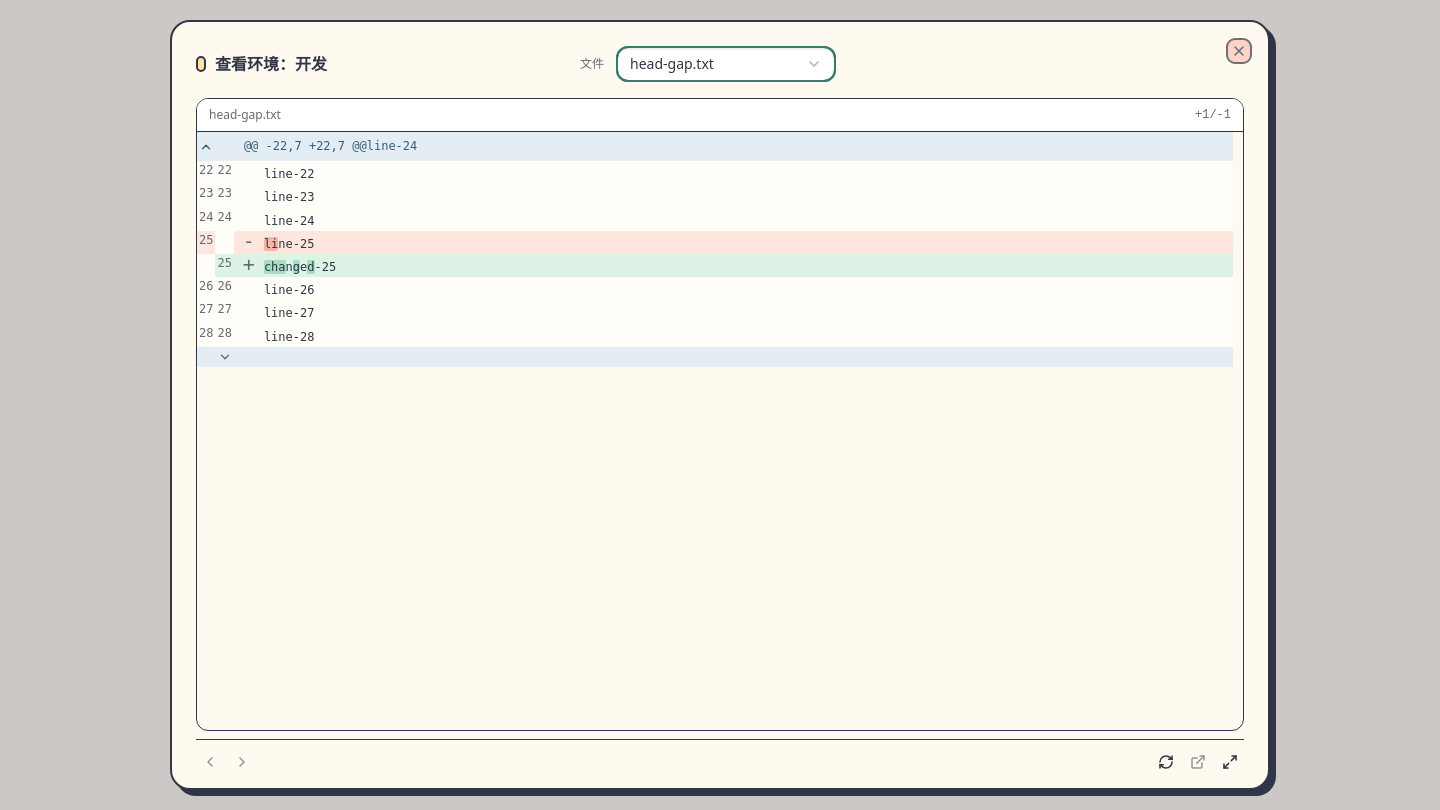
Test: EnvironmentDiffDialog › offers only upward expansion for a head gap
This screenshot has width=1440, height=810.
Expected: the row with test id "environment-diff-hunk-header" reads "@@ -22,7 +22,7 @@ line-24", x1=197 y1=132 x2=1233 y2=161
Click the button named "向上展开10行".
click(206, 147)  # box x1=197 y1=137 x2=215 y2=157
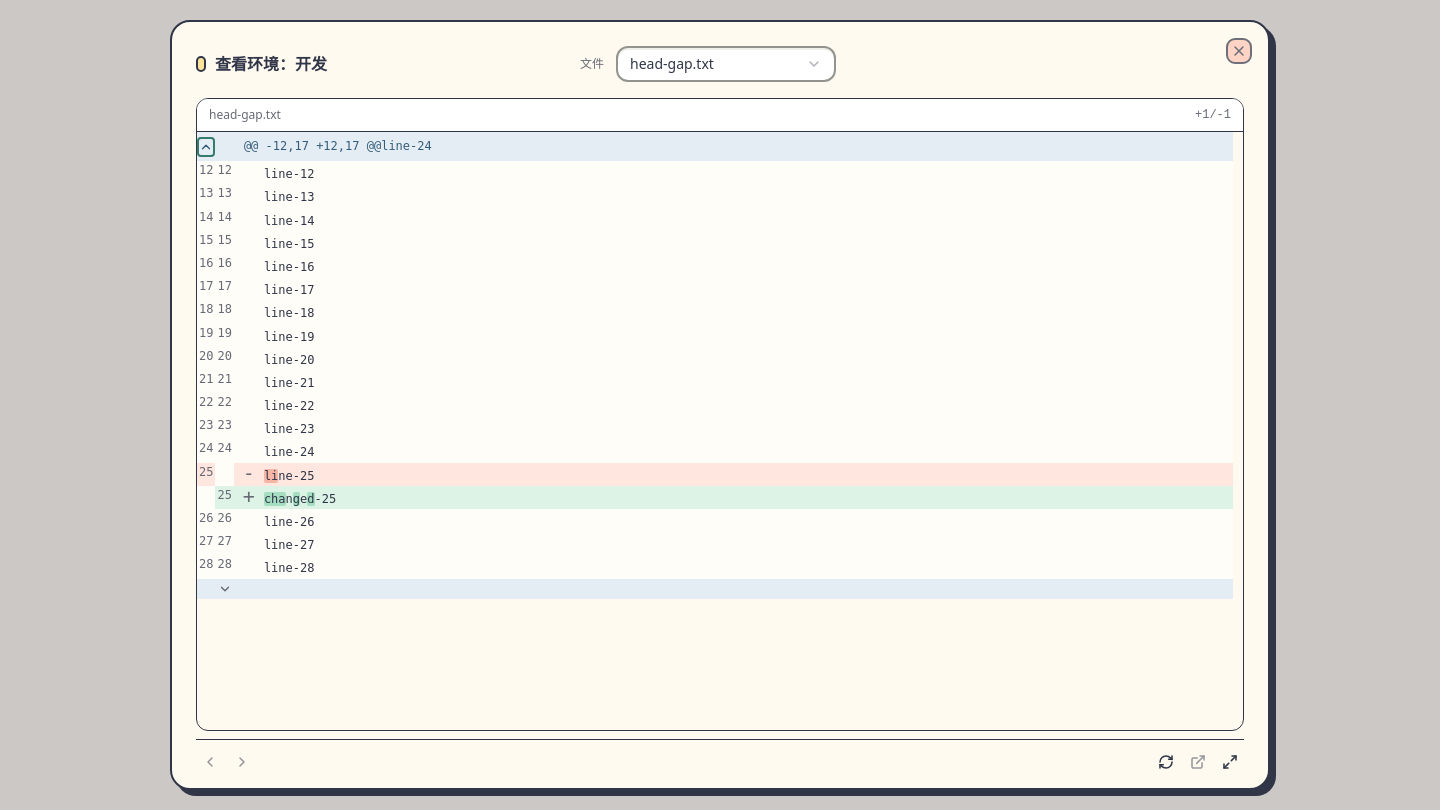
Expected: the row with test id "environment-diff-hunk-header" reads "@@ -12,17 +12,17 @@ line-24", x1=197 y1=132 x2=1233 y2=161
Click the button named "向上展开10行".
click(206, 147)  # box x1=197 y1=137 x2=215 y2=157
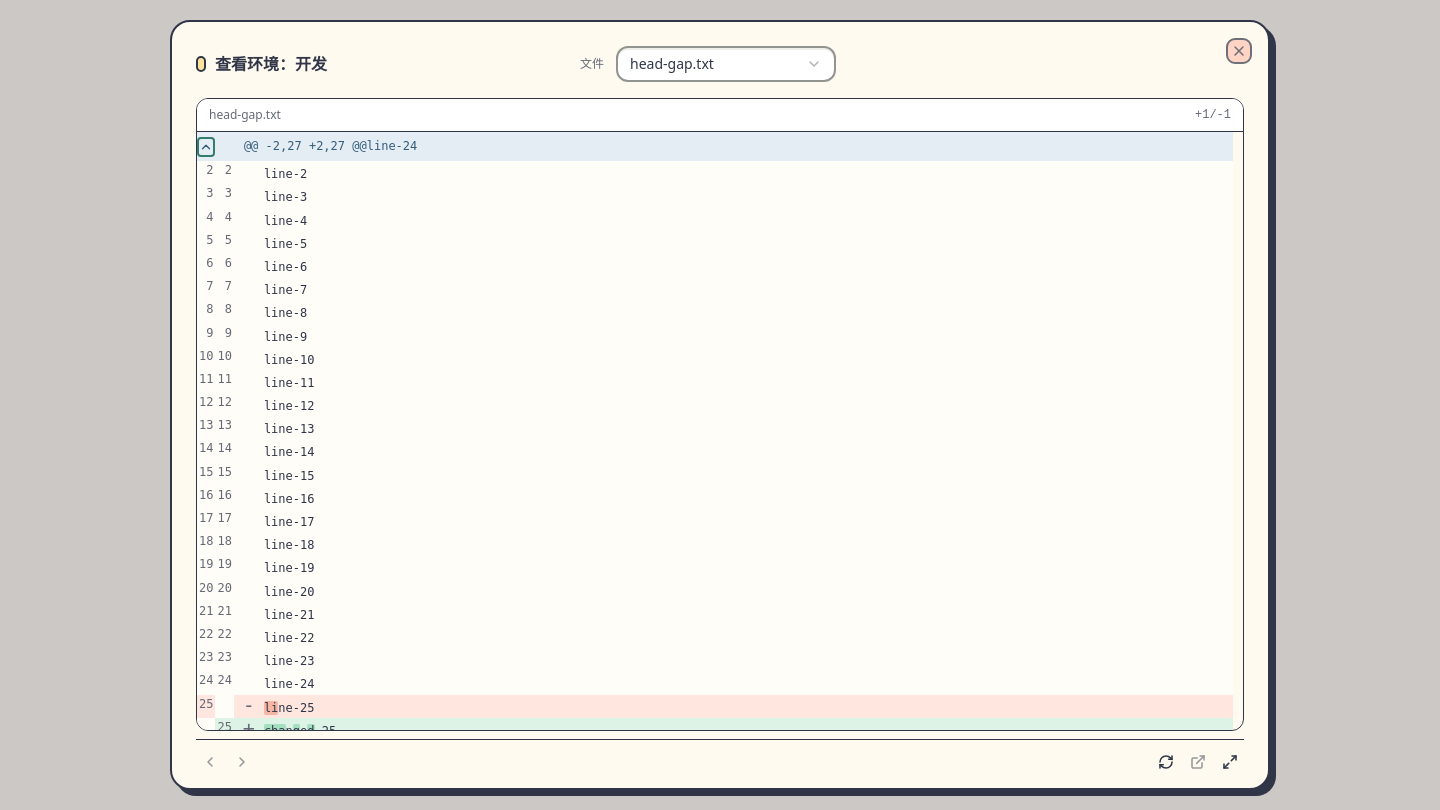
Click the button named "向上展开10行".
click(206, 147)  # box x1=197 y1=137 x2=215 y2=157
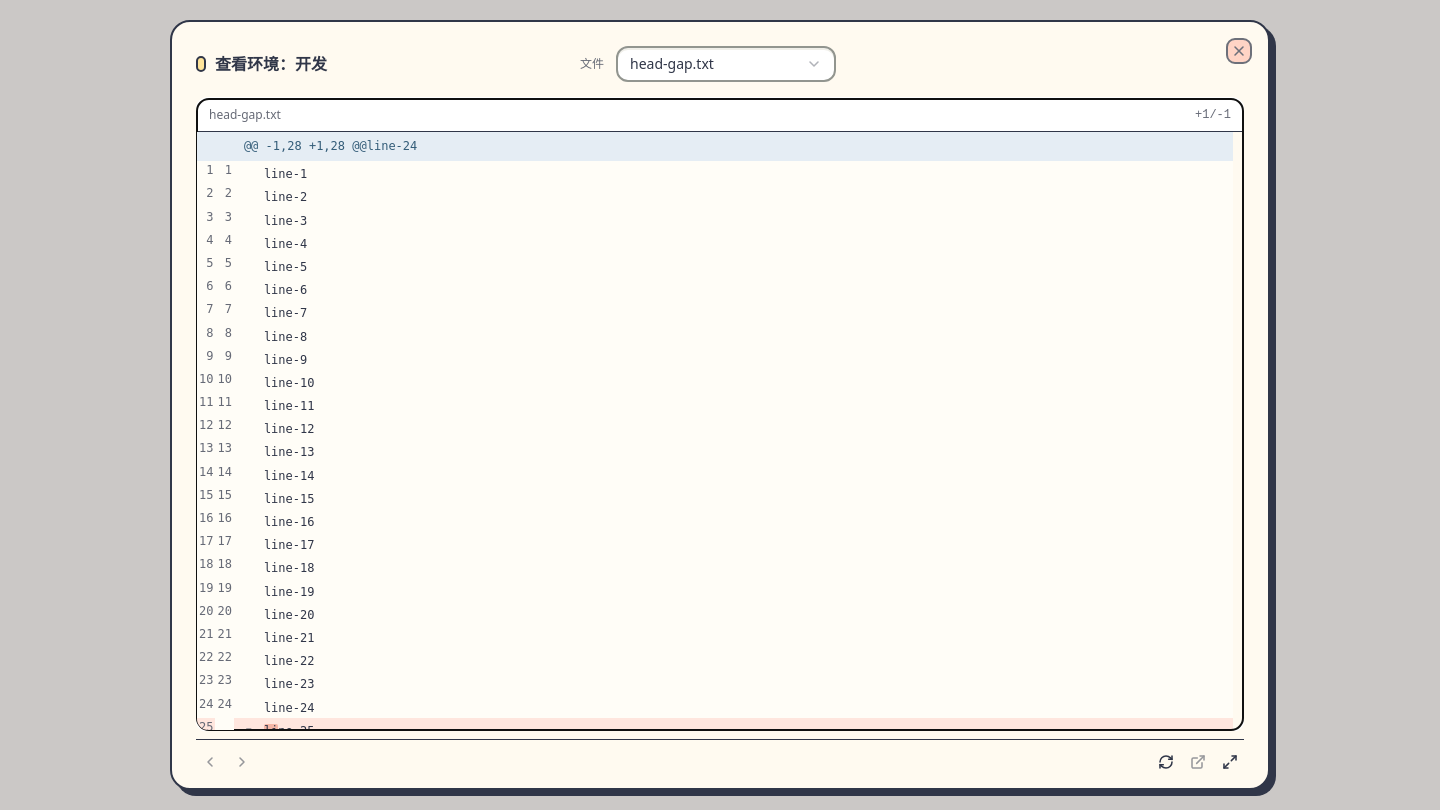
Expected: the row with test id "environment-diff-hunk-header" reads "@@ -1,28 +1,28 @@ line-24", x1=197 y1=132 x2=1233 y2=161
